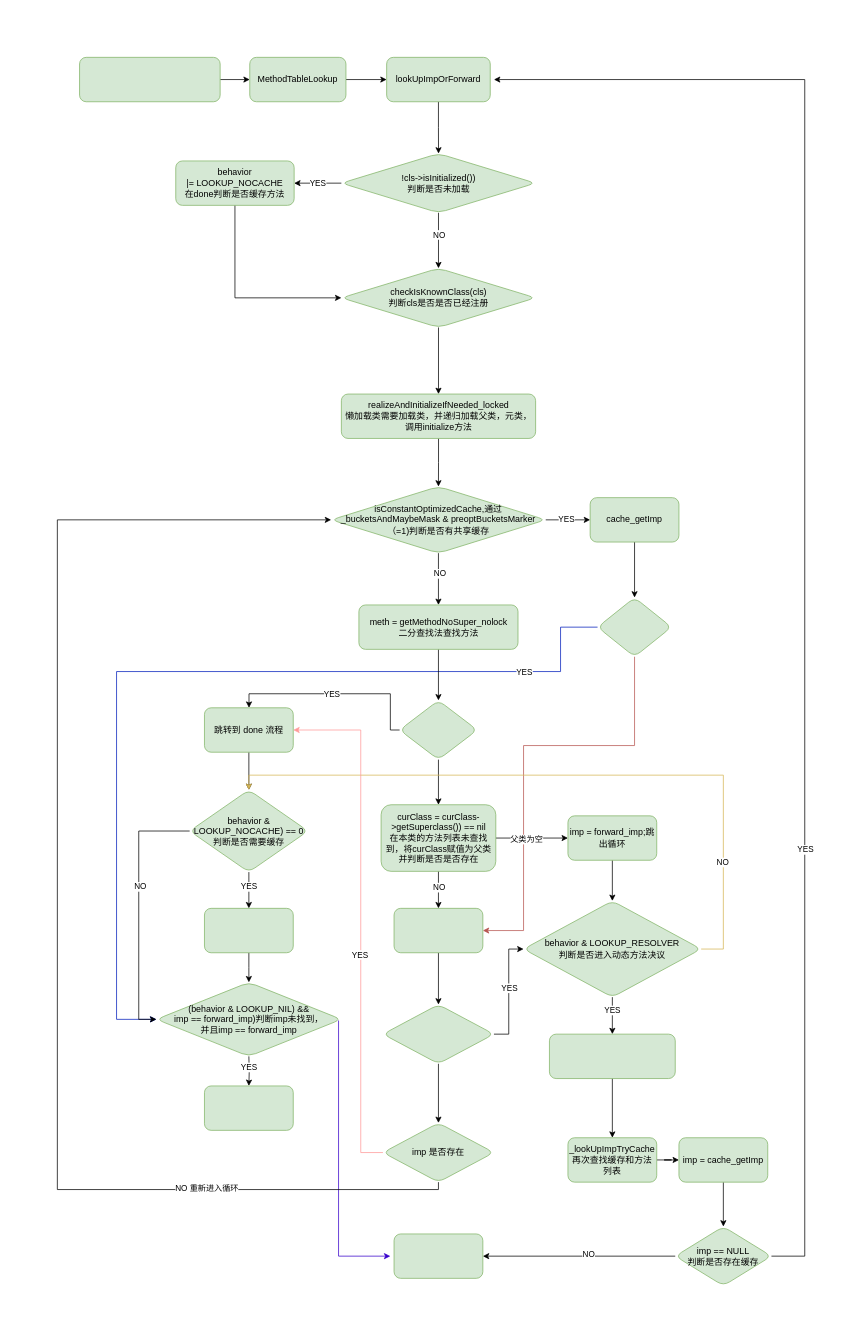
The diagram is 861 pixels wide and 1328 high, and some of its shapes have lost their labels. Each missing label, with the centre of its shape:
"__objc_msgSend_uncached" belongs at (x=149, y=79).
"imp = cache_getImp 查找父类的缓存" belongs at (x=438, y=930).
"imp == forward_imp" belongs at (x=438, y=1034).
"imp是否存在" belongs at (x=634, y=627).
"log_and_fill_cache 将sel,imp缓存到cls的cache" belongs at (x=248, y=930).
"meth 是否存在" belongs at (x=438, y=730).
"resolveMethod_locked 进入动态方法决议流程" belongs at (x=612, y=1056).
"return imp" belongs at (x=438, y=1255).
"return nil" belongs at (x=248, y=1107).
